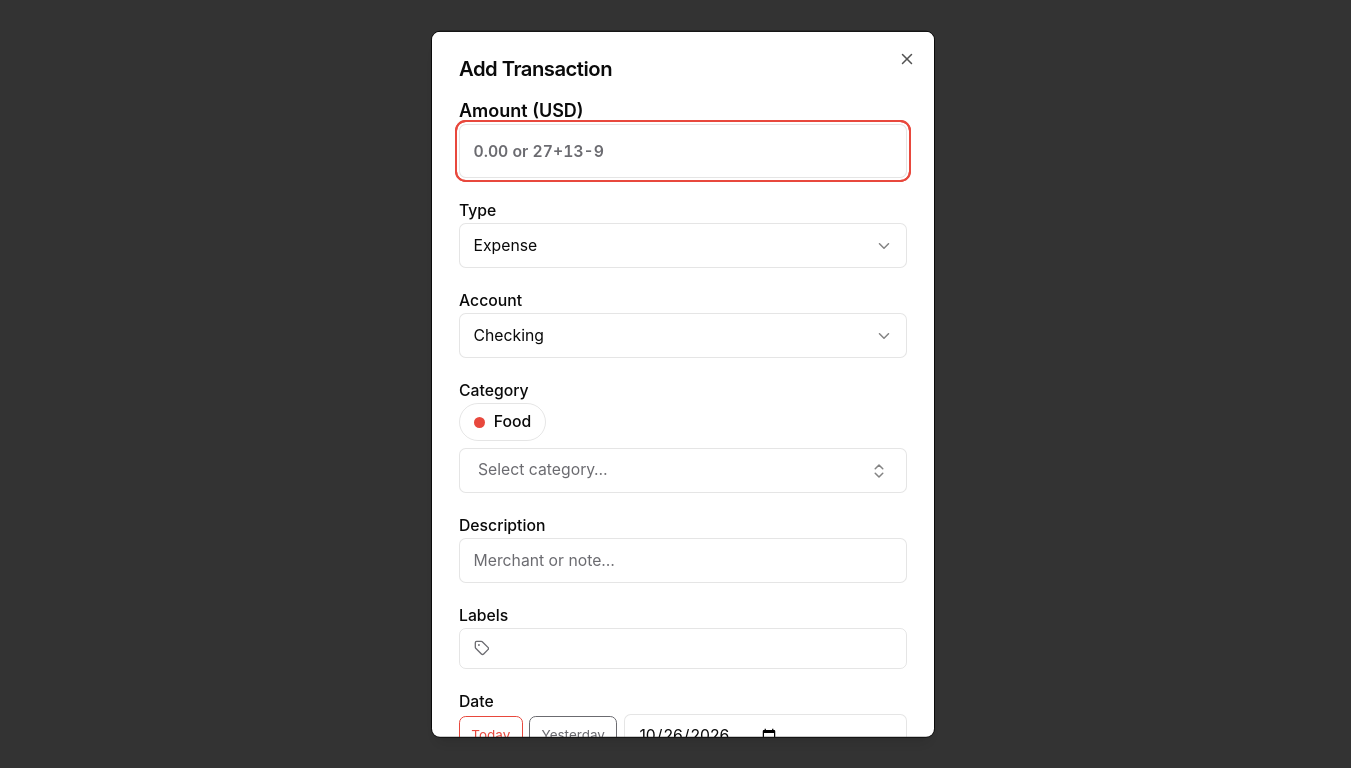
Test: TransactionForm -- category search › clears an incompatible category when the transaction type changes
The image size is (1366, 768).
What coordinates should you click on to do the following:
click the button "Food"
I would click on:
 (502, 422)
Its box is [459,403,546,441].
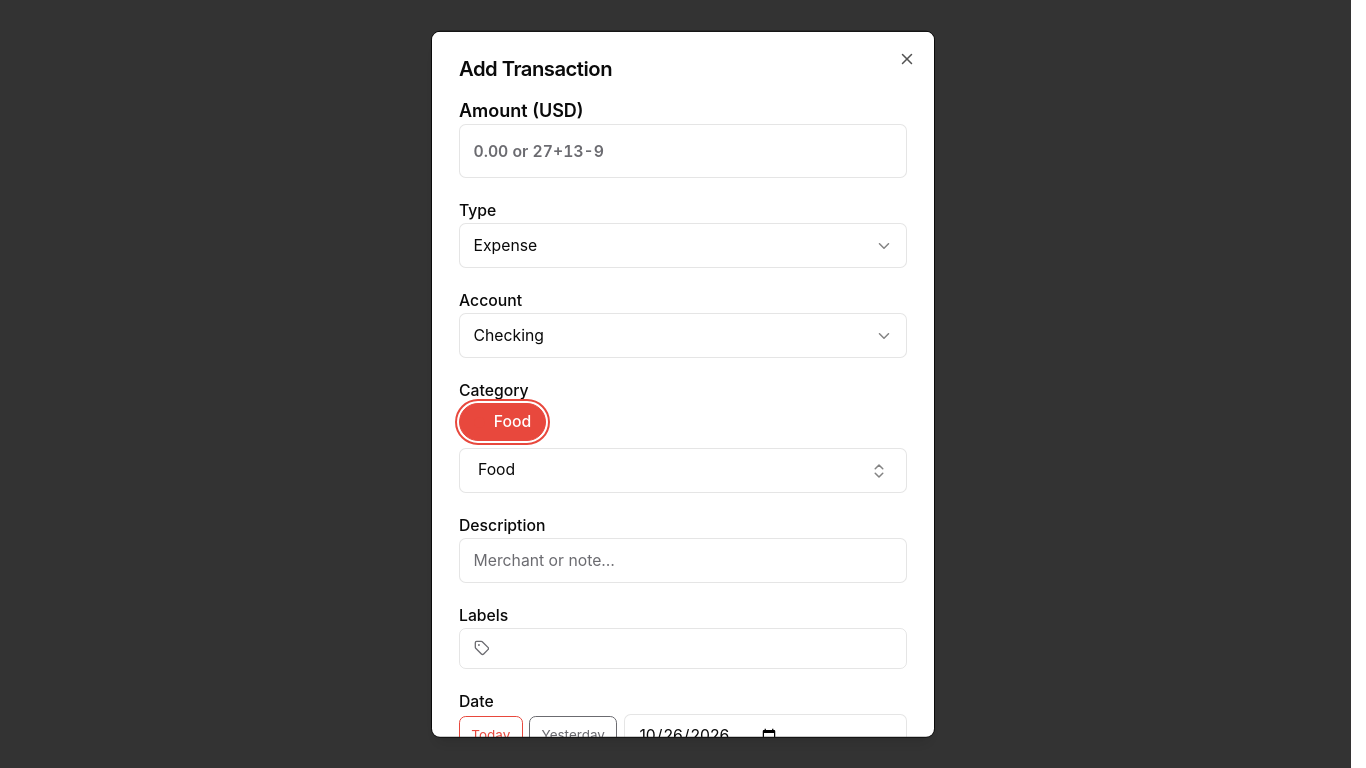
Expected: the dropdown named "Category" reads "Food", [459,448,907,493]
What coordinates should you click on to do the following:
click the dropdown named "Type"
I would click on:
 (505, 245)
Its box is [459,223,907,268].
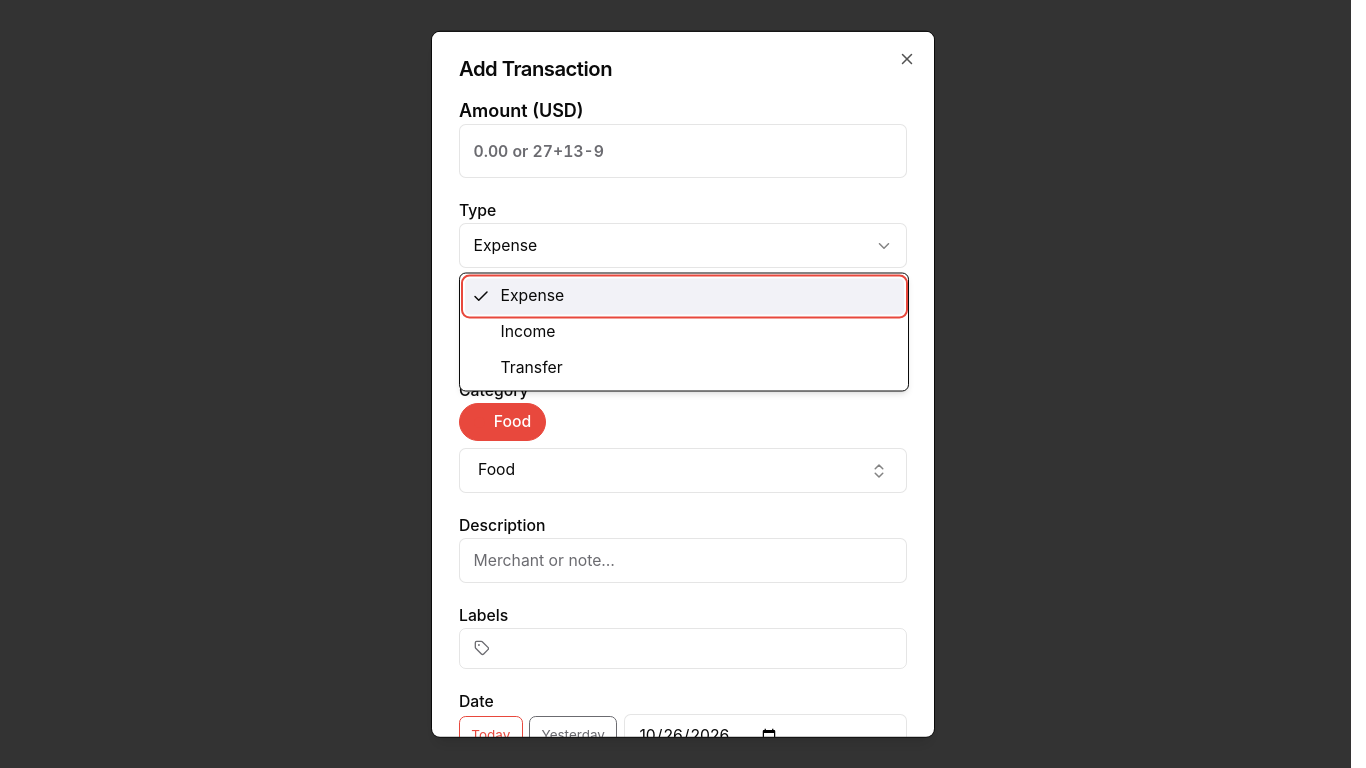
What coordinates should you click on to do the following:
click the option "Income"
I would click on:
 (528, 331)
Its box is [500,322,556,341].
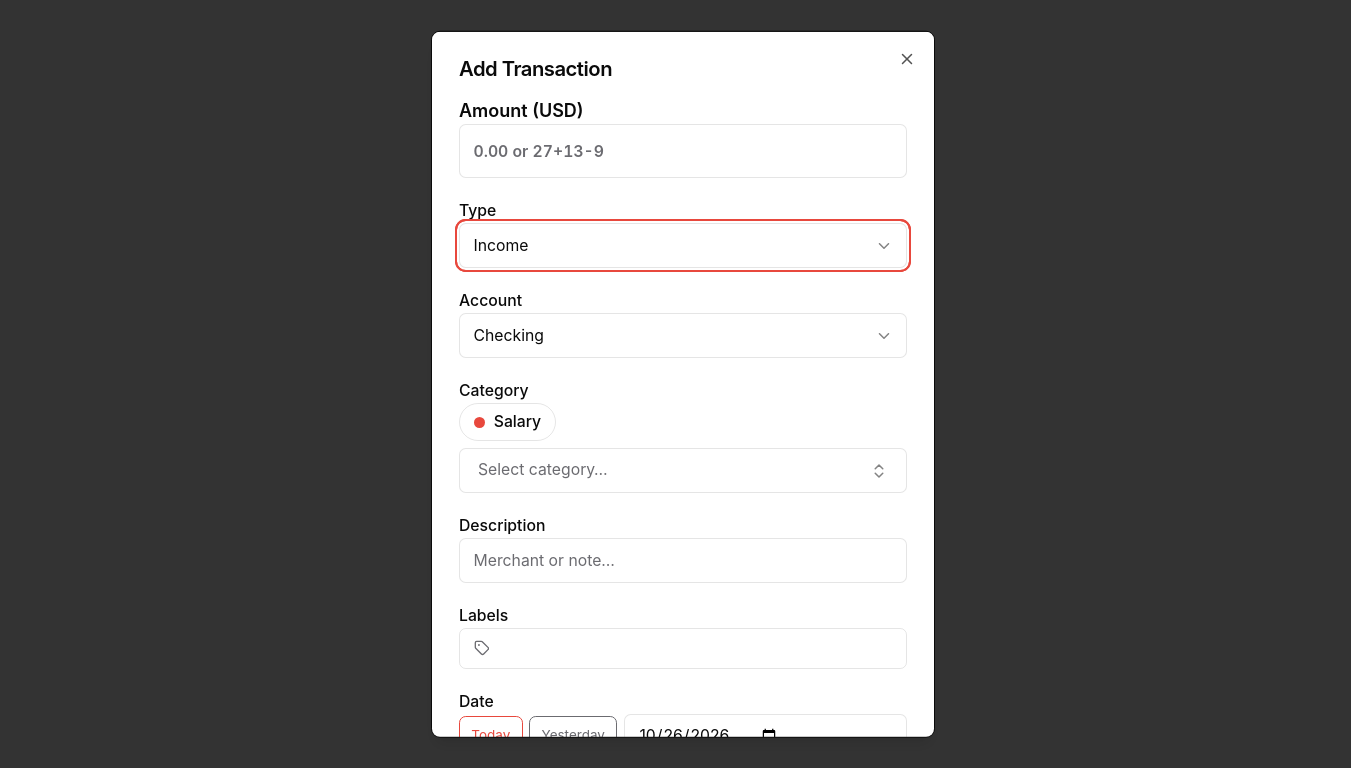
Expected: the dropdown labelled "category" shows "Select category", [459,448,907,493]
Expected: the button "Food" is gone
